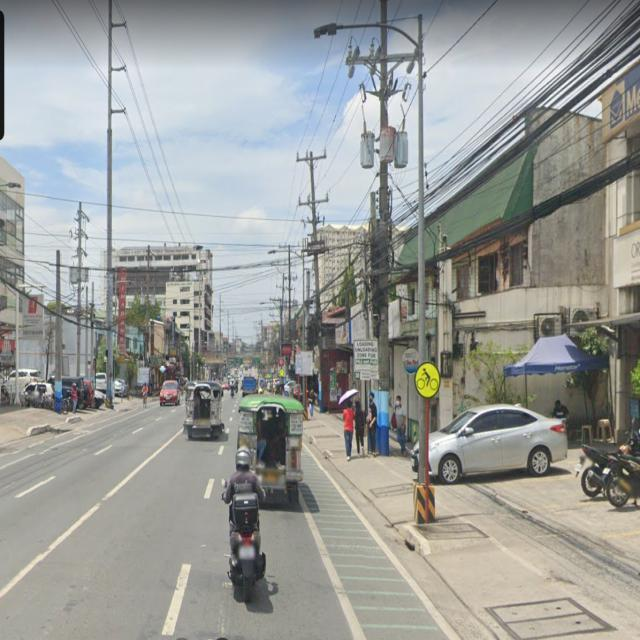bike lane: (413, 356, 444, 400)
